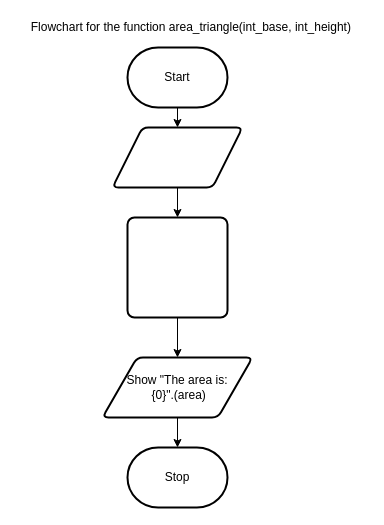
This 384x525 diagram has some shape labels left out. Each missing label, with the centre of its shape:
"area = int_base * int_height / 2" belongs at (177,267).
"Ask user for degrees in celsius" belongs at (177,157).
